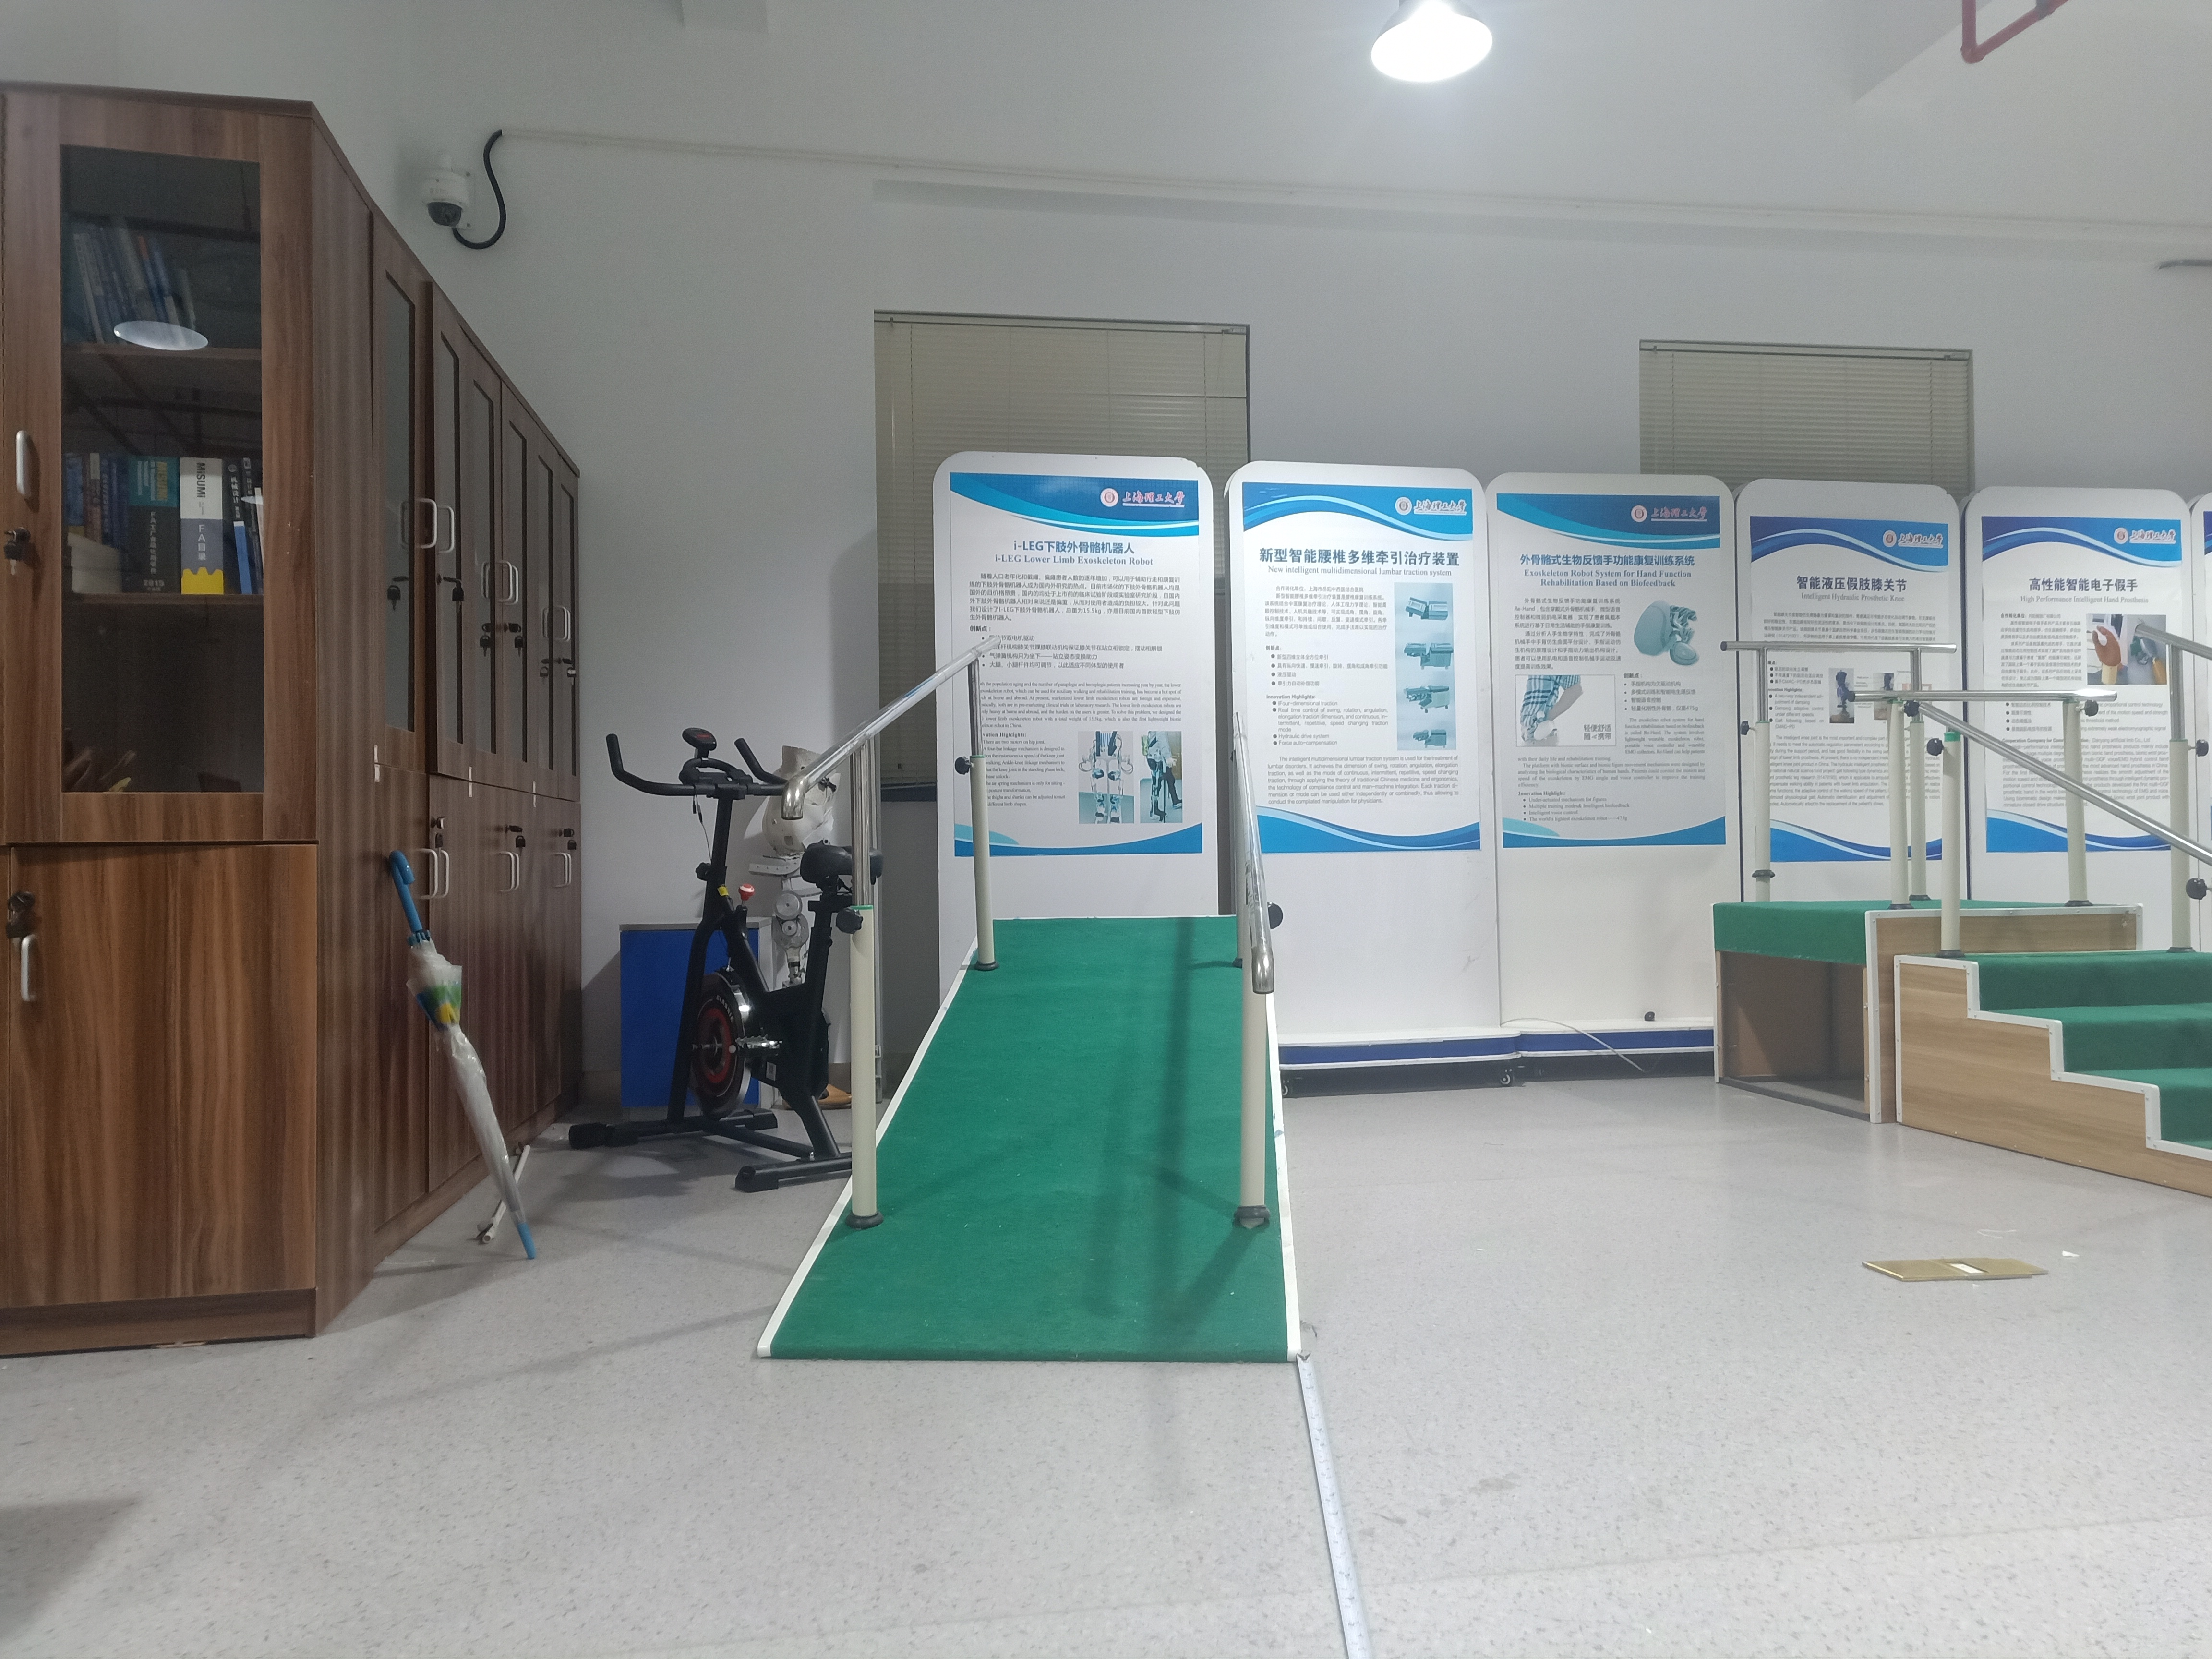ramps: (752, 911, 1301, 1364)
